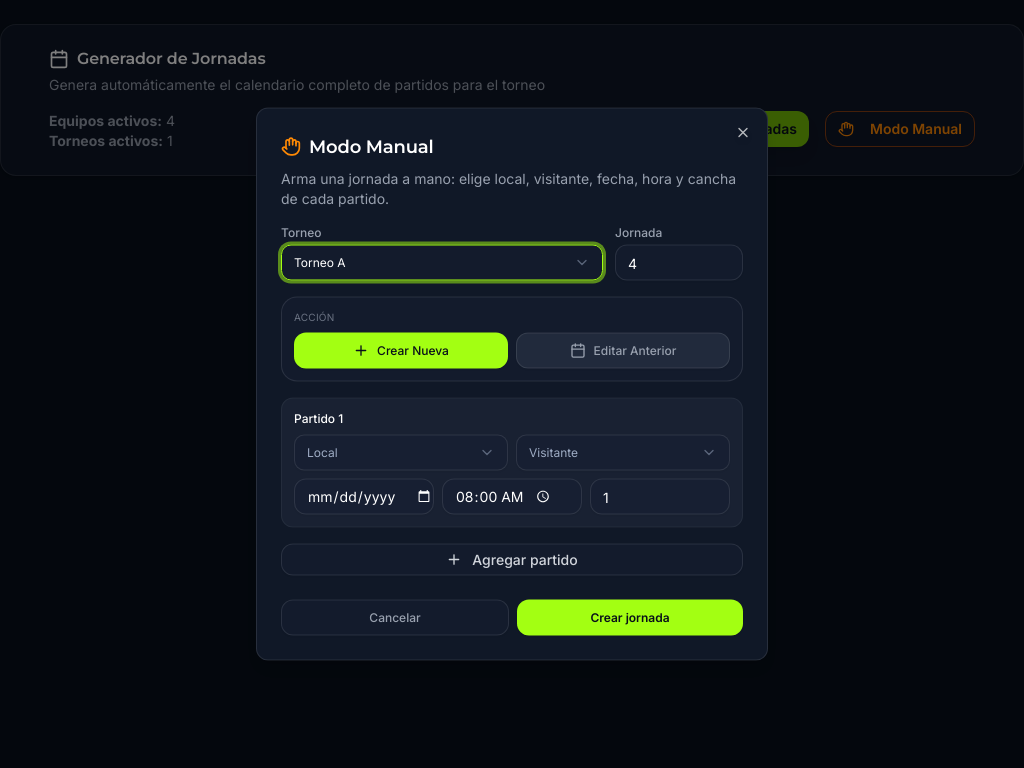
Scenario: Modo Manual › shows the API validation messages and keeps the typed matches
Earlier steps of the test are not shown.
Click the dropdown named "Local (partido 1)". click: click(401, 452)
box: [294, 434, 508, 470]
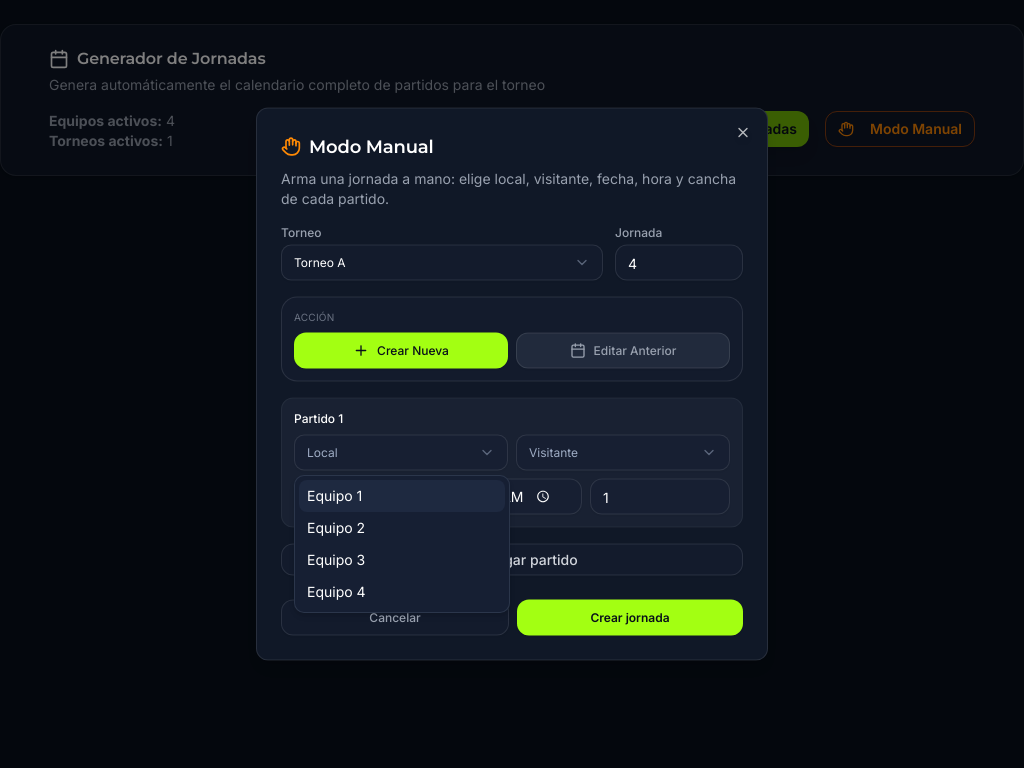
Click the option "Equipo 1". click: click(402, 496)
box: [299, 480, 505, 512]
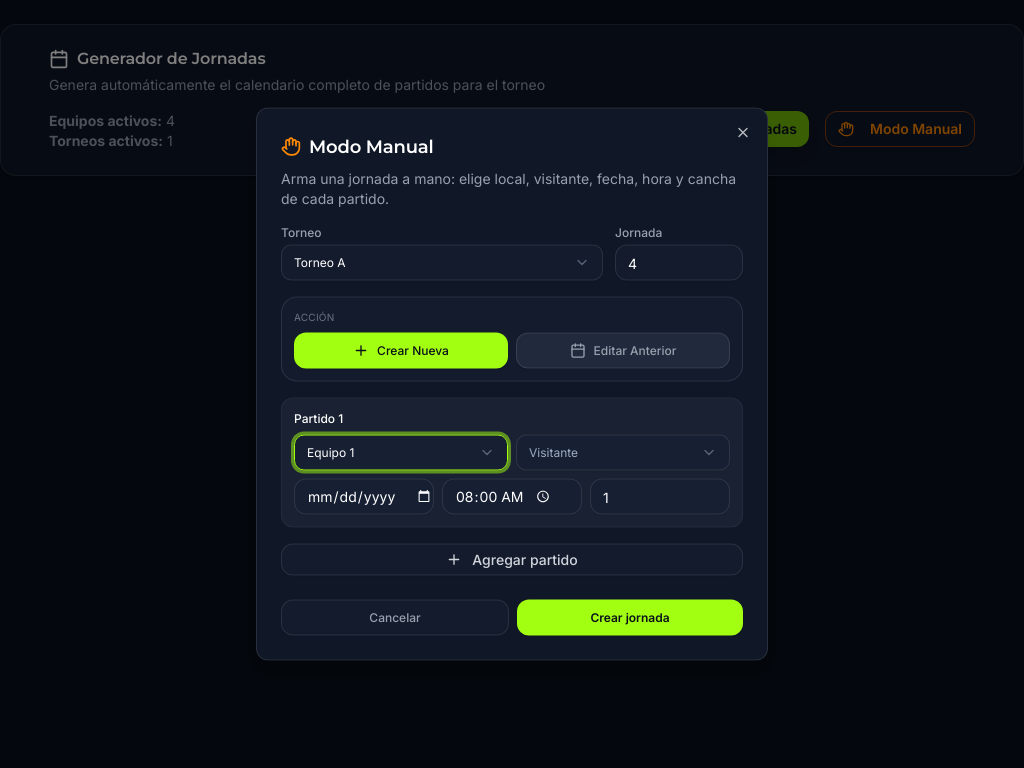
Click the dropdown named "Visitante (partido 1)". click: click(623, 452)
box: [516, 434, 730, 470]
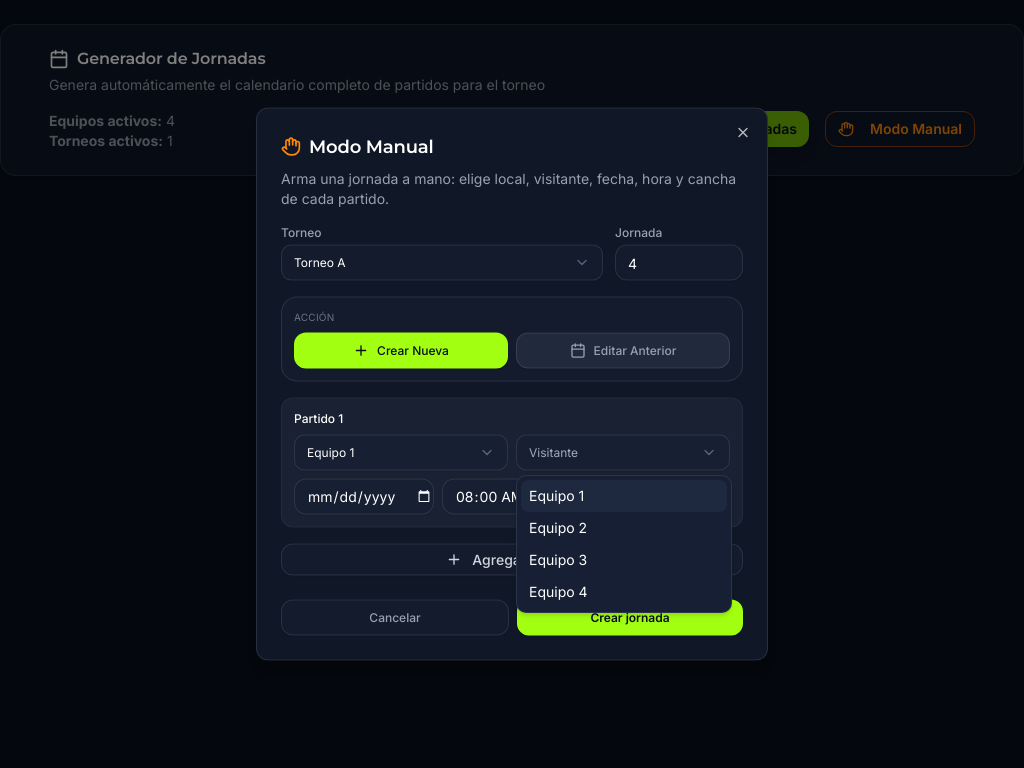
Click the option "Equipo 2". click: click(558, 528)
box: [529, 519, 587, 536]
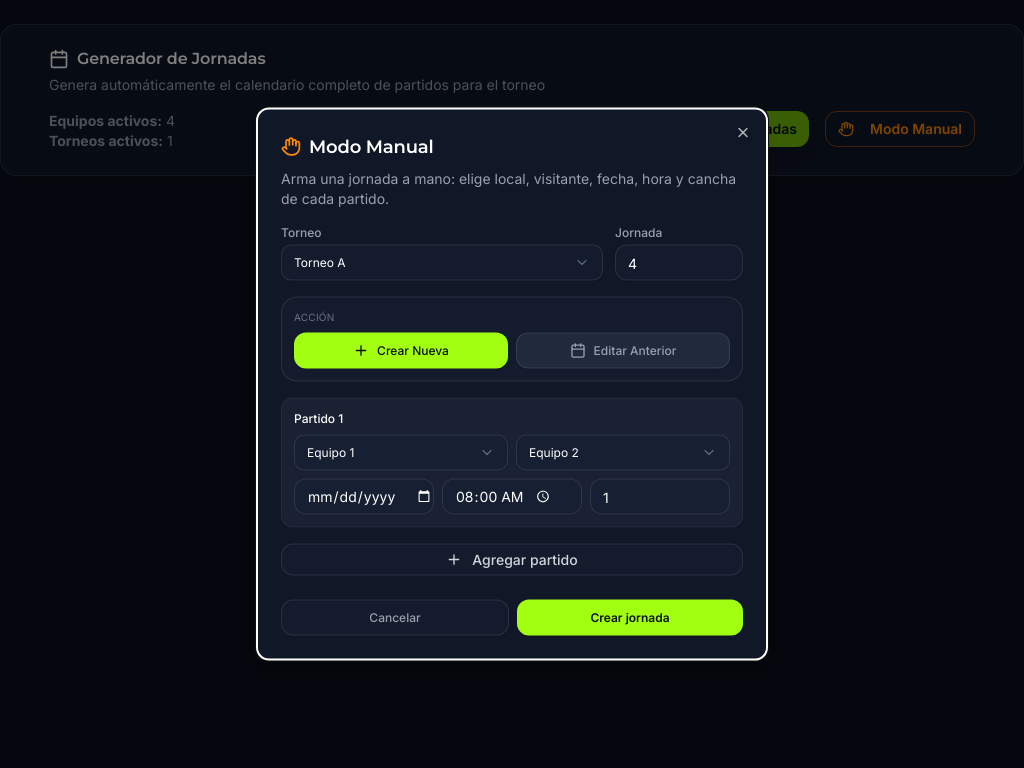
Type "2024-03-02" into the date field named "Fecha (partido 1)". click: (364, 496)
box: [294, 478, 434, 514]
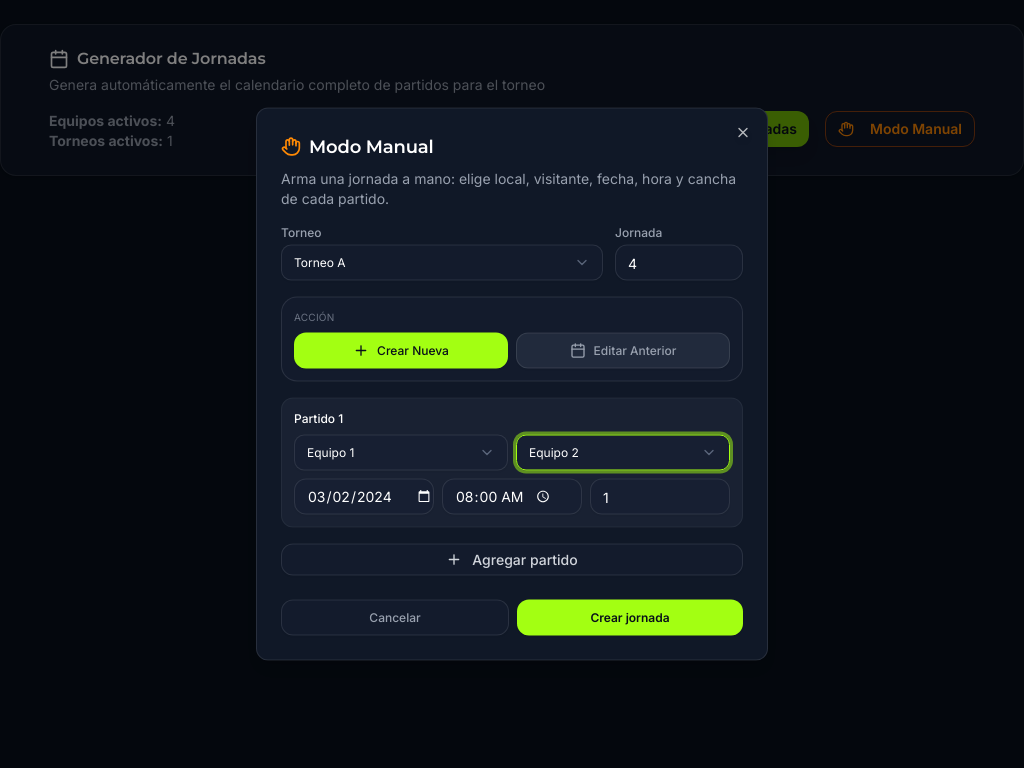
Click the button "Crear jornada". click: click(630, 618)
box: [517, 600, 743, 636]
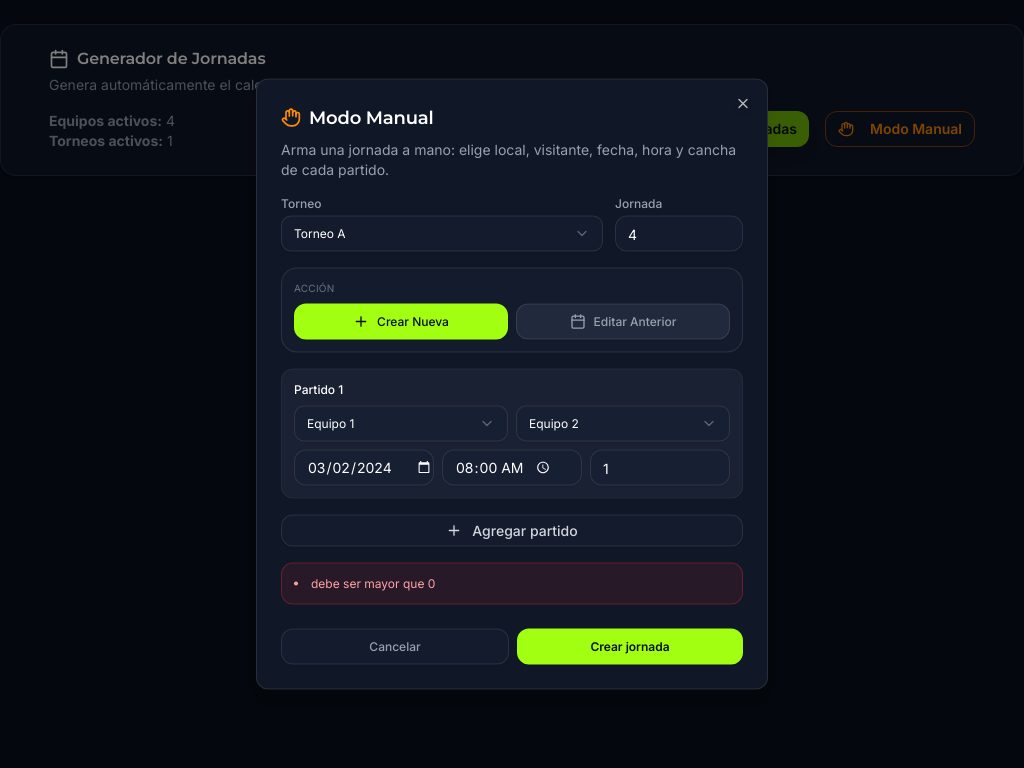
Now the dropdown named "Local (partido 1)" reads "Equipo 1", box [294, 406, 508, 442]
Now the list item "debe ser mayor que 0" is shown, box [311, 576, 435, 590]
